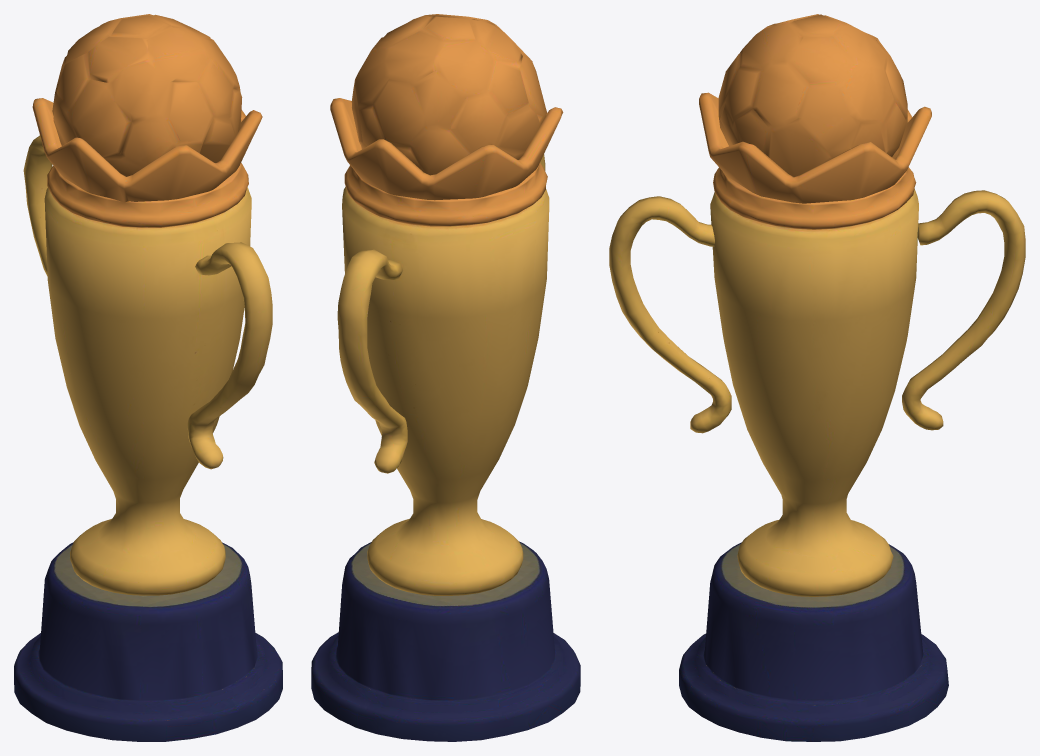
The model's file is trophy.glb.
3 views of the same model, side by side, from view 1: azimuth 30°, elevation 25°; view 2: azimuth 150°, elevation 25°; view 3: azimuth 270°, elevation 25° (orthographic).
Parts seen in each view (by area): view 1: Championship trophy; view 2: Championship trophy; view 3: Championship trophy.
Part boxes in pixels (<box>): Championship trophy: <box>14,14,282,741</box>; Championship trophy: <box>311,14,580,741</box>; Championship trophy: <box>609,14,1025,741</box>.
Size of the model in its own units: 0.3691 by 0.998 by 0.5723.
Materials: 1 (1 with a texture image).
